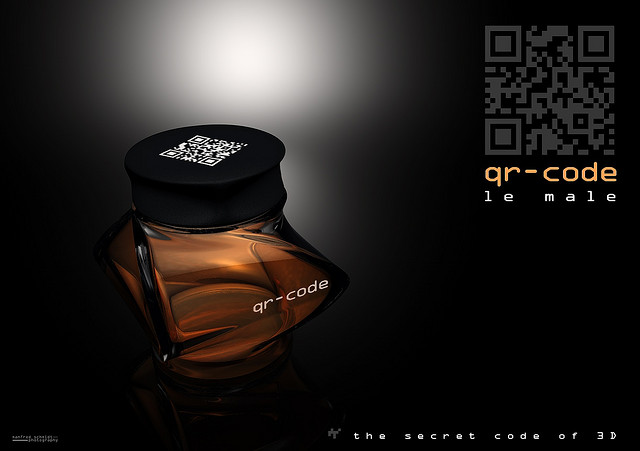QR-CODE: (485, 25, 614, 154), (159, 134, 247, 166)
